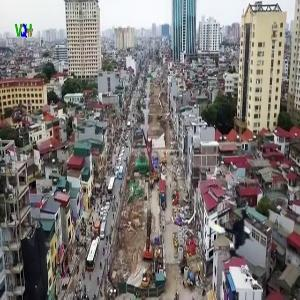drone: (202, 199, 268, 265)
